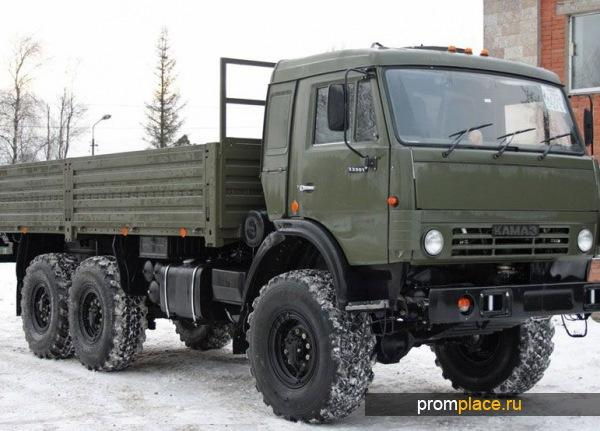ambulance: (1, 39, 600, 421)
